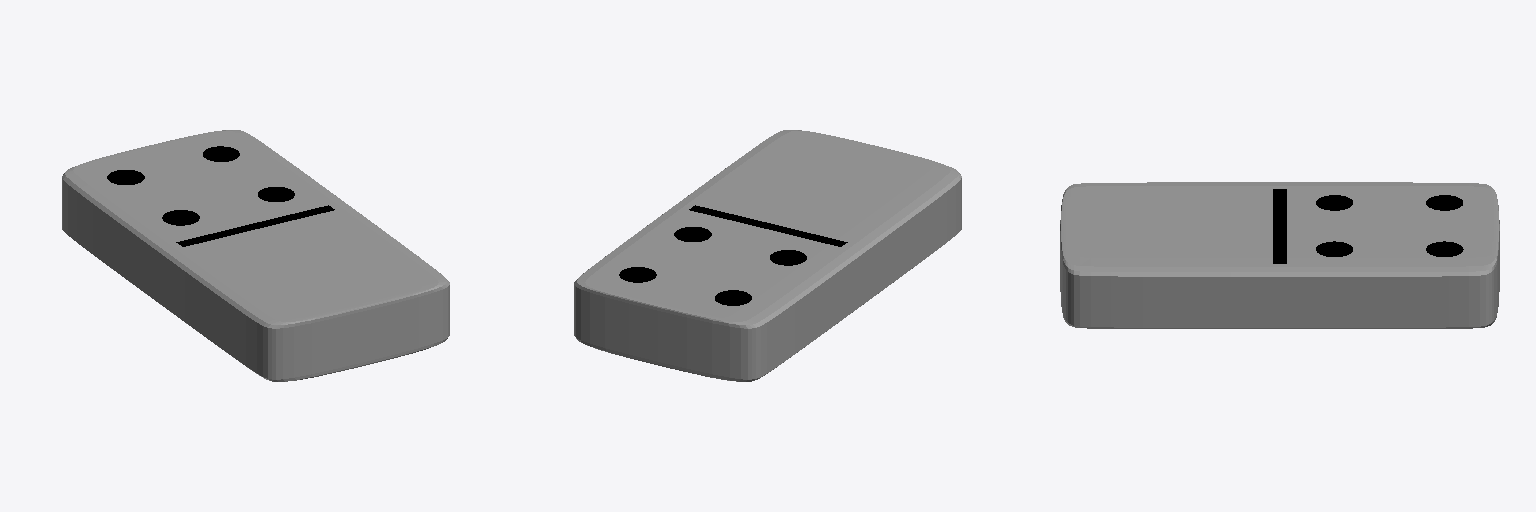
The picture shows the model from 3 angles: view 1: azimuth 30°, elevation 25°; view 2: azimuth 150°, elevation 25°; view 3: azimuth 270°, elevation 25°; orthographic projection.
Visible parts, largest first — view 1: Domino_1-4_Cube.007; view 2: Domino_1-4_Cube.007; view 3: Domino_1-4_Cube.007.
Part boxes in pixels (bbox=[...]): Domino_1-4_Cube.007: bbox=[62, 130, 449, 381]; Domino_1-4_Cube.007: bbox=[574, 130, 961, 381]; Domino_1-4_Cube.007: bbox=[1060, 182, 1499, 328].
Bounding box in the file's own units: 2 × 0.5993 × 3.99.